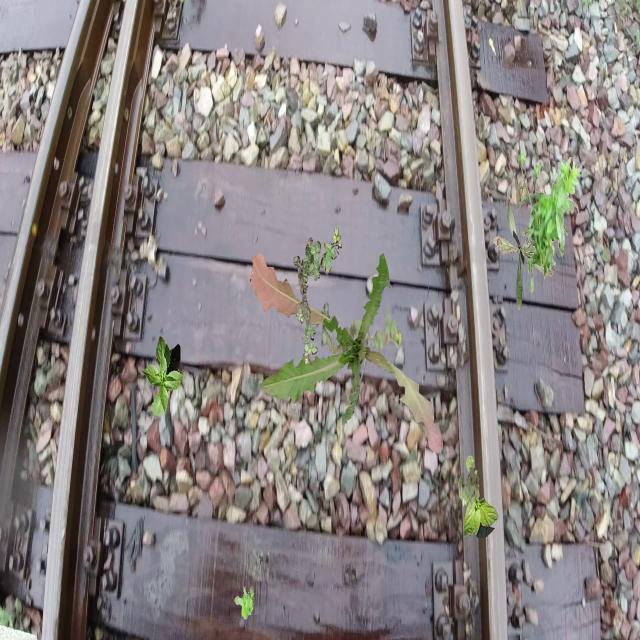Plant: (250, 251, 442, 454), (517, 149, 582, 292), (492, 199, 556, 311), (294, 228, 342, 366), (316, 302, 402, 370), (141, 336, 183, 416), (463, 455, 498, 538), (455, 467, 481, 510), (234, 587, 254, 620)
